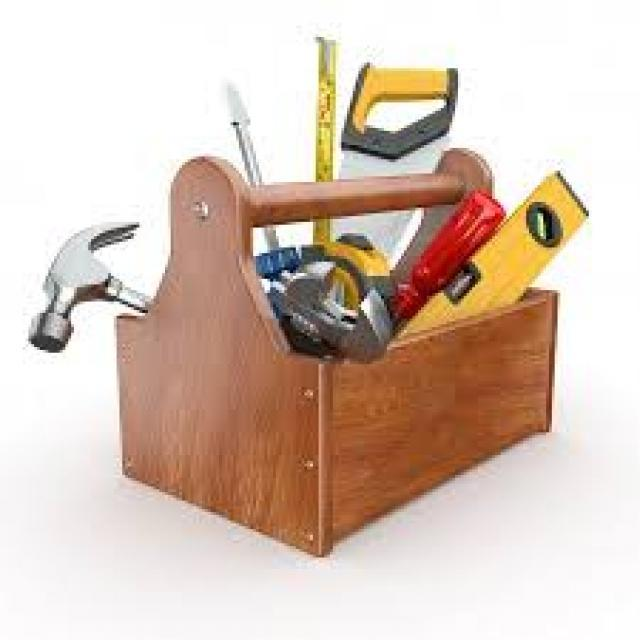hammer: (28, 212, 164, 364)
screwdriver: (202, 72, 310, 302)
wrench: (256, 262, 402, 364)
